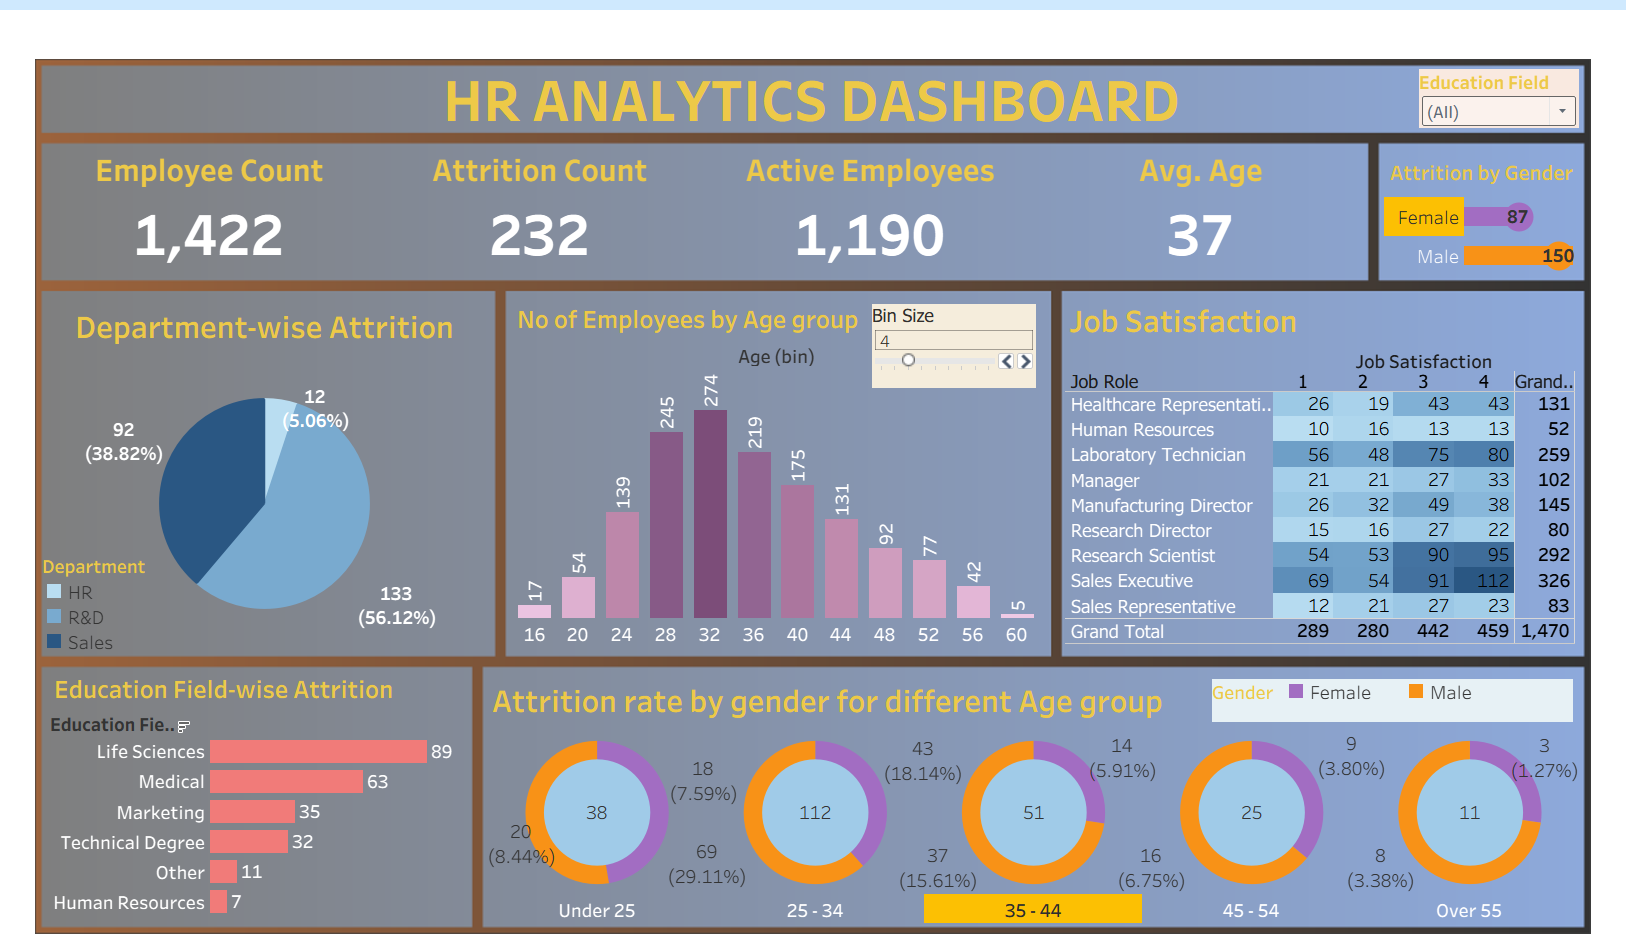

Layout of this report page (visuals, bound fields, positions):
{"tool":"tableau","page":{"name":"ANALYTICS DASHBOARD","canvas":[1580,900],"ordinal":0},"visuals":[{"type":"image","param":"C:/Users/Atharv/Downloads/HR background.pptx.png","box":[8,8,1564,884]},{"type":"text","box":[19,20,1539,62]},{"type":"filter","title":"Education Field-wise Attrition","param":"[federated.0oq2fma0e0bpi01gdrlyw1bn6f1z].[none:Education Field:nk]","box":[1396,22,160,59]},{"type":"worksheet","title":"KPI","mark":"Automatic","box":[21,102,1322,128]},{"type":"worksheet","title":"Attrition by Gender","mark":"Bar","rows":["Gender"],"cols":["Calculation_1835498376106639360","Calculation_1835498376106639360"],"box":[1361,107,195,121]},{"type":"worksheet","title":"Job Satisfaction","mark":"Square","rows":["Job Role"],"cols":["Job Satisfaction"],"box":[1042,248,510,349]},{"type":"worksheet","title":"No of Employees by Age group","mark":"Automatic","rows":["Employee Count"],"cols":["Age (bin)"],"box":[490,251,526,349]},{"type":"worksheet","title":"Department-wise Attrition","mark":"Pie","box":[14,254,455,349]},{"type":"parameter","param":"[Parameters].[Parameter 1]","box":[849,257,164,84]},{"type":"legend","title":"Department-wise Attrition","param":"[federated.0oq2fma0e0bpi01gdrlyw1bn6f1z].[none:Department:nk]","box":[19,506,140,101]},{"type":"worksheet","title":"Education Field-wise Attrition","mark":"Automatic","rows":["Education Field"],"cols":["Calculation_1835498376106639360"],"box":[27,621,418,249]},{"type":"worksheet","title":"Attrition rate by gender for different Age group","mark":"Pie","rows":["Calculation_1835498376423645188","Calculation_1835498376423645188"],"cols":["CF_age band"],"box":[465,628,1091,248]},{"type":"legend","title":"Attrition rate by gender for different Age group","param":"[federated.0oq2fma0e0bpi01gdrlyw1bn6f1z].[none:Gender:nk]","box":[1189,632,361,43]}]}

Visuals, with their boxes in screenshot pixels (x1, y1, x2, y2), scaled from the page's 1580x900 canvas onto the 1626x946 screenshot:
image: crop(8, 8, 1618, 938)
text: crop(20, 21, 1603, 86)
"Education Field-wise Attrition" filter: crop(1437, 23, 1601, 85)
"KPI" worksheet: crop(22, 107, 1382, 242)
"Attrition by Gender" worksheet (Bar marks): crop(1401, 112, 1601, 240)
"Job Satisfaction" worksheet (Square marks): crop(1072, 261, 1597, 628)
"No of Employees by Age group" worksheet: crop(504, 264, 1046, 631)
"Department-wise Attrition" worksheet (Pie marks): crop(14, 267, 483, 634)
parameter: crop(874, 270, 1042, 358)
"Department-wise Attrition" legend: crop(20, 532, 164, 638)
"Education Field-wise Attrition" worksheet: crop(28, 653, 458, 914)
"Attrition rate by gender for different Age group" worksheet (Pie marks): crop(479, 660, 1601, 921)
"Attrition rate by gender for different Age group" legend: crop(1224, 664, 1595, 710)
